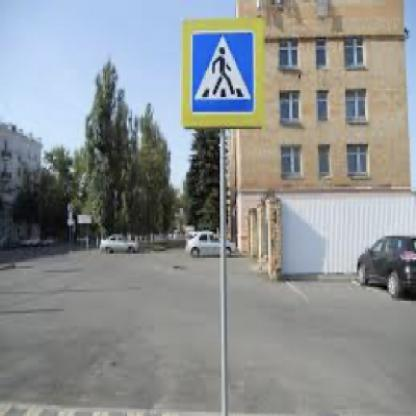crosswalk: (190, 30, 252, 112)
